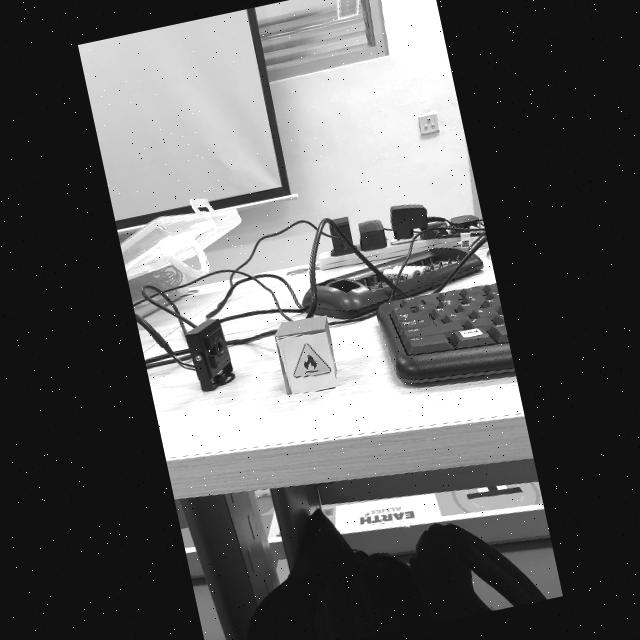Fire: (294, 344, 331, 377)
